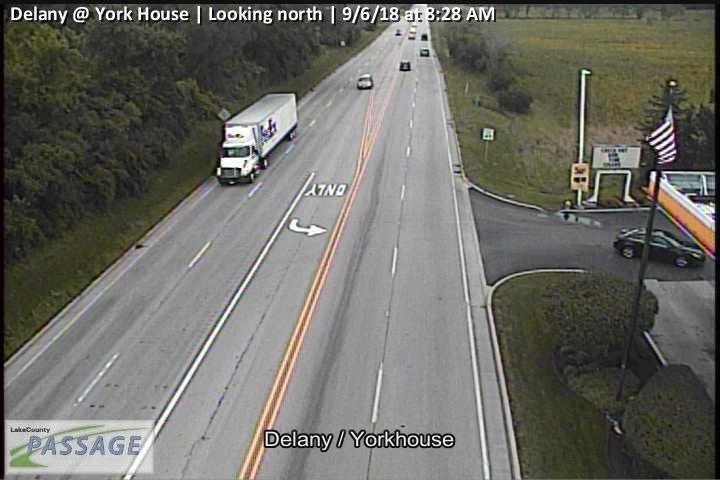SUV: (357, 74, 373, 89), (400, 60, 409, 71), (420, 48, 429, 56)
Truck: (215, 93, 298, 186)
